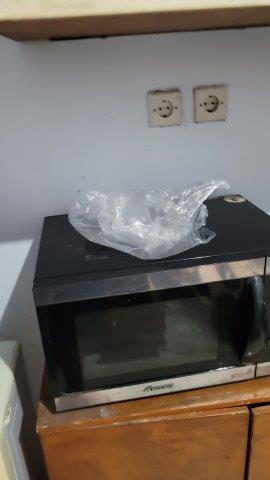plastik: (67, 176, 231, 259)
